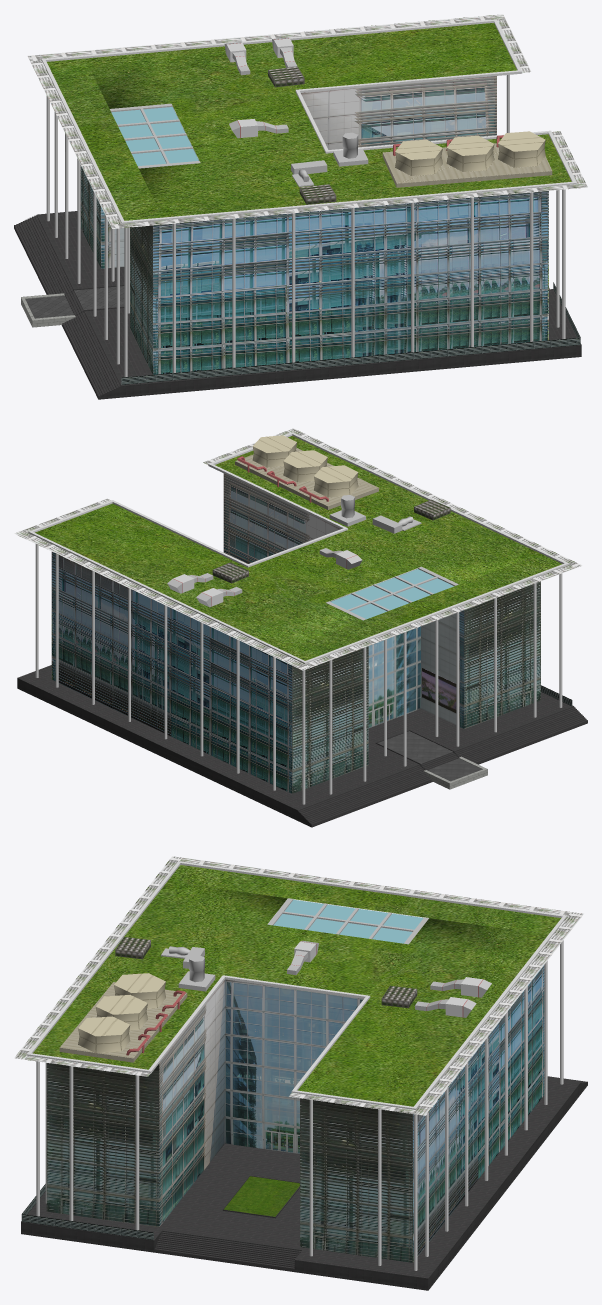
3 views of the same model, one above another, from view 1: azimuth 30°, elevation 25°; view 2: azimuth 150°, elevation 25°; view 3: azimuth 270°, elevation 25° (orthographic). The views are drawn at different scales.
Parts seen in each view (by area): view 1: 1.1; view 2: 1.1; view 3: 1.1.
Part boxes in pixels (x1=…): 1.1: x1=14, y1=14, x2=587, y2=399; 1.1: x1=14, y1=428, x2=587, y2=827; 1.1: x1=14, y1=856, x2=587, y2=1290.
Bounding box in the file's own units: 78.8 × 28 × 72.22.
Materials: 26 (20 with a texture image).
